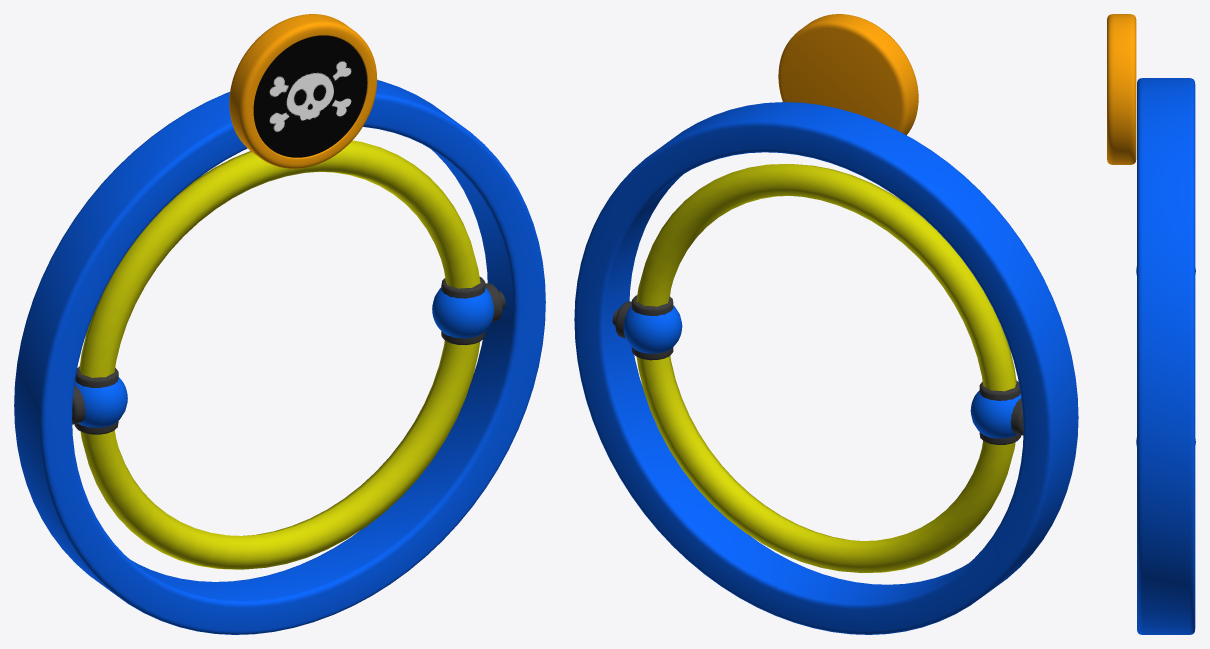
The model's file is Barrier_4.FBX.
3 renders of one model, left to right at view 1: azimuth 30°, elevation 25°; view 2: azimuth 150°, elevation 25°; view 3: azimuth 270°, elevation 25°, orthographic. The views are drawn at different scales.
Parts seen in each view (by area): view 1: Barrier_4, Barrier_Beam_2, Barrier_Sign, Barrier_Beam_1, Barrier_Rotor; view 2: Barrier_4, Barrier_Beam_1, Barrier_Beam_2, Barrier_Sign, Barrier_Rotor; view 3: Barrier_4, Barrier_Sign.
Boxes of the visible parts, bbox=[...] form: Barrier_4: bbox=[14, 80, 545, 634]; Barrier_Beam_2: bbox=[80, 340, 479, 569]; Barrier_Sign: bbox=[229, 14, 377, 168]; Barrier_Beam_1: bbox=[79, 140, 480, 377]; Barrier_Rotor: bbox=[72, 277, 505, 434]; Barrier_4: bbox=[574, 102, 1078, 634]; Barrier_Beam_1: bbox=[636, 164, 1016, 391]; Barrier_Beam_2: bbox=[636, 356, 1015, 572]; Barrier_Sign: bbox=[778, 14, 918, 135]; Barrier_Rotor: bbox=[612, 295, 1023, 444]; Barrier_4: bbox=[1137, 78, 1195, 634]; Barrier_Sign: bbox=[1107, 14, 1136, 164].
Size of the model in its own units: 5356 by 6236 by 855.
